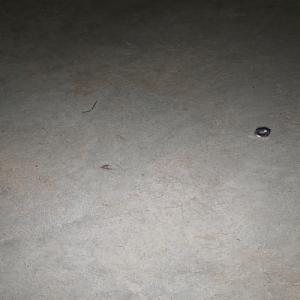Nut: (252, 126, 270, 137)
